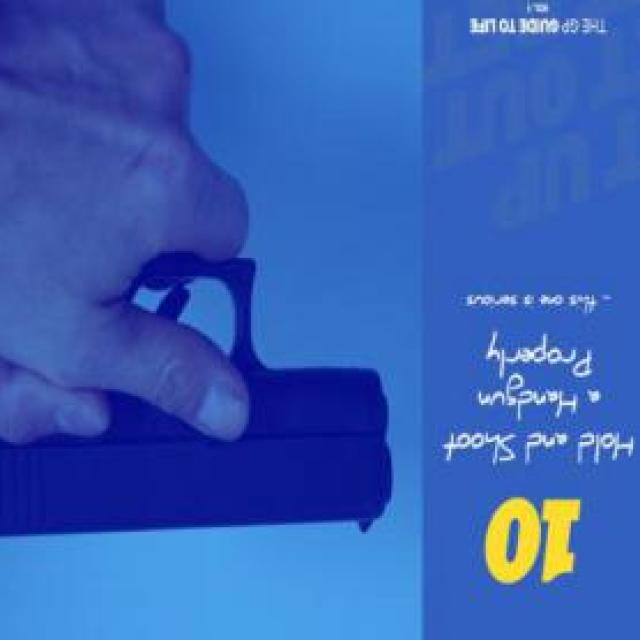pistol: (0, 235, 392, 564)
